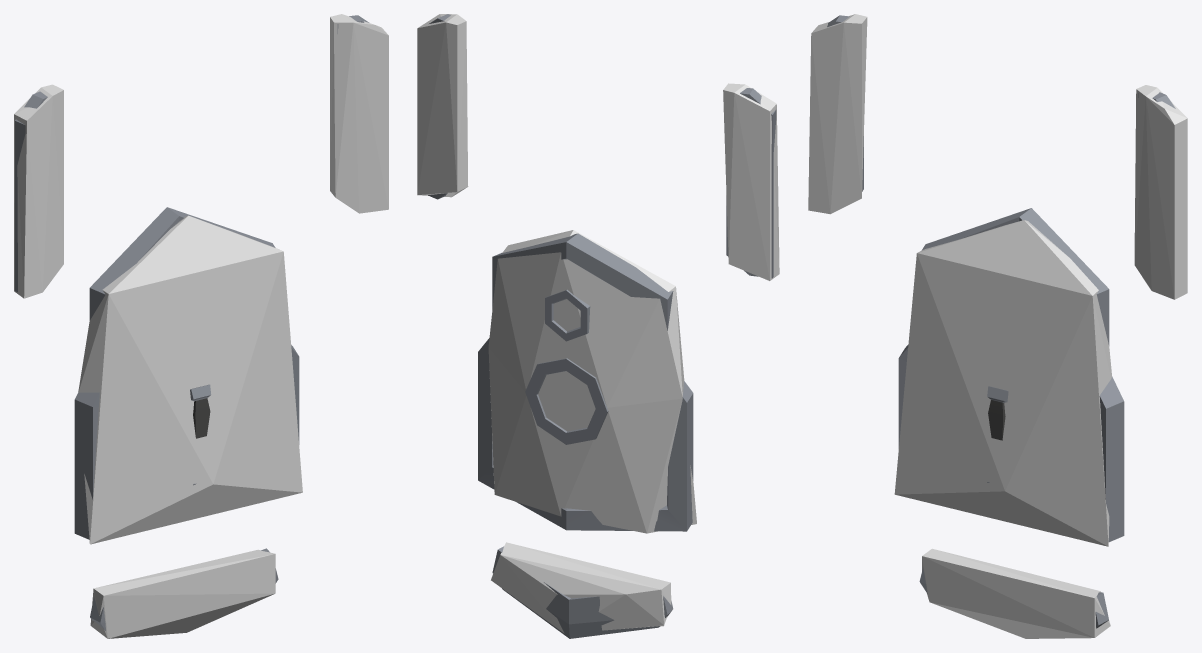
The model's file is SM_Wep_Shield_Extended_01.fbx.
The picture shows the model from 3 angles, left to right: view 1: azimuth 30°, elevation 25°; view 2: azimuth 150°, elevation 25°; view 3: azimuth 330°, elevation 25°; orthographic projection. The views are drawn at different scales.
Visible parts, largest first — view 1: SM_Wep_Shield_Extended_01_ConvexHulls, SM_Wep_Shield_Extended_01_LOD0; view 2: SM_Wep_Shield_Extended_01_ConvexHulls, SM_Wep_Shield_Extended_01_LOD0; view 3: SM_Wep_Shield_Extended_01_ConvexHulls, SM_Wep_Shield_Extended_01_LOD0.
Boxes of the visible parts, left/top/right/bottom form: SM_Wep_Shield_Extended_01_ConvexHulls: left=14, top=14, right=388, bottom=638; SM_Wep_Shield_Extended_01_LOD0: left=15, top=15, right=369, bottom=630; SM_Wep_Shield_Extended_01_ConvexHulls: left=417, top=14, right=779, bottom=633; SM_Wep_Shield_Extended_01_LOD0: left=428, top=14, right=776, bottom=638; SM_Wep_Shield_Extended_01_ConvexHulls: left=808, top=14, right=1187, bottom=638; SM_Wep_Shield_Extended_01_LOD0: left=827, top=15, right=1175, bottom=628.
Size of the model in its own units: 13.12 by 69.88 by 107.
Materials: 1 (1 with a texture image).
